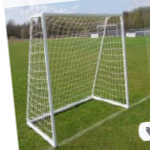goals: (24, 10, 130, 146)
